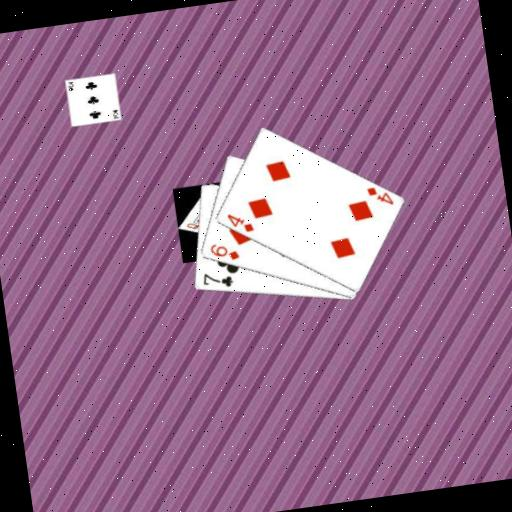4D: (363, 181, 396, 210), (224, 208, 256, 237)
6D: (206, 238, 241, 265)
7C: (198, 267, 236, 293)
